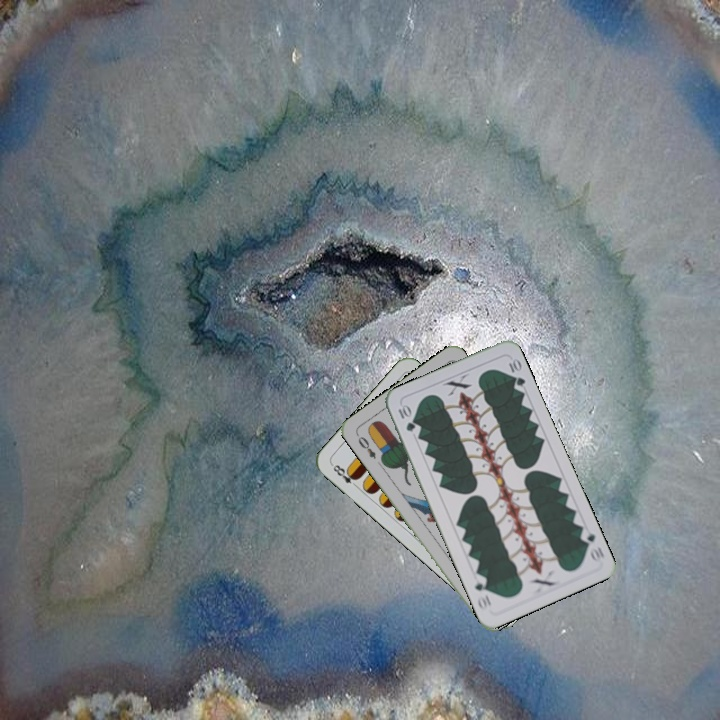E8: (328, 460, 361, 491)
EO: (352, 430, 379, 462)
G10: (576, 527, 607, 565), (394, 401, 418, 434)
